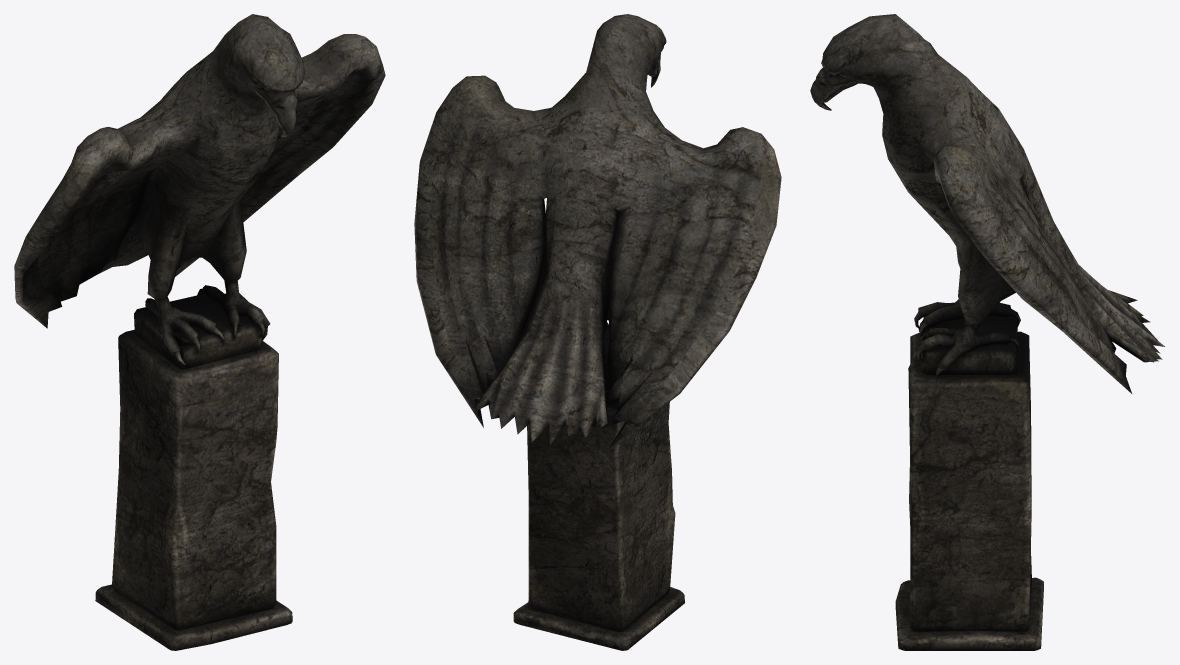
The model's file is eagle.dae.
The picture shows the model from 3 angles, left to right: view 1: azimuth 30°, elevation 25°; view 2: azimuth 150°, elevation 25°; view 3: azimuth 270°, elevation 25°; orthographic projection. The views are drawn at different scales.
Parts seen in each view (by area): view 1: eagle_statue; view 2: eagle_statue; view 3: eagle_statue.
Boxes of the visible parts, x1=… form: eagle_statue: x1=14, y1=14, x2=385, y2=650; eagle_statue: x1=414, y1=14, x2=781, y2=650; eagle_statue: x1=810, y1=14, x2=1164, y2=650.
Size of the model in its own units: 3.37 by 5.57 by 2.92.
